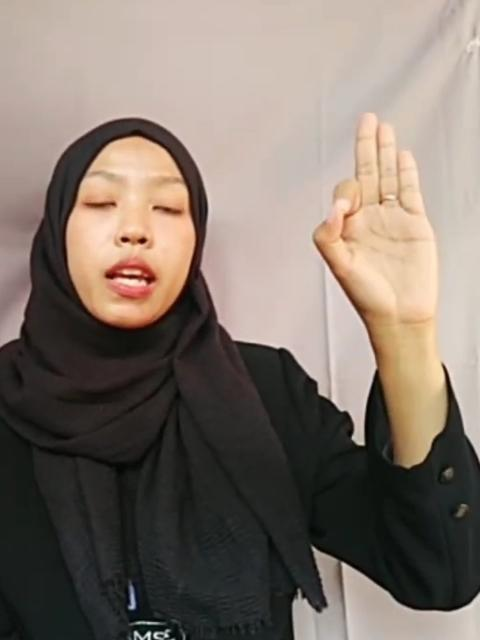F: (300, 104, 448, 326)
